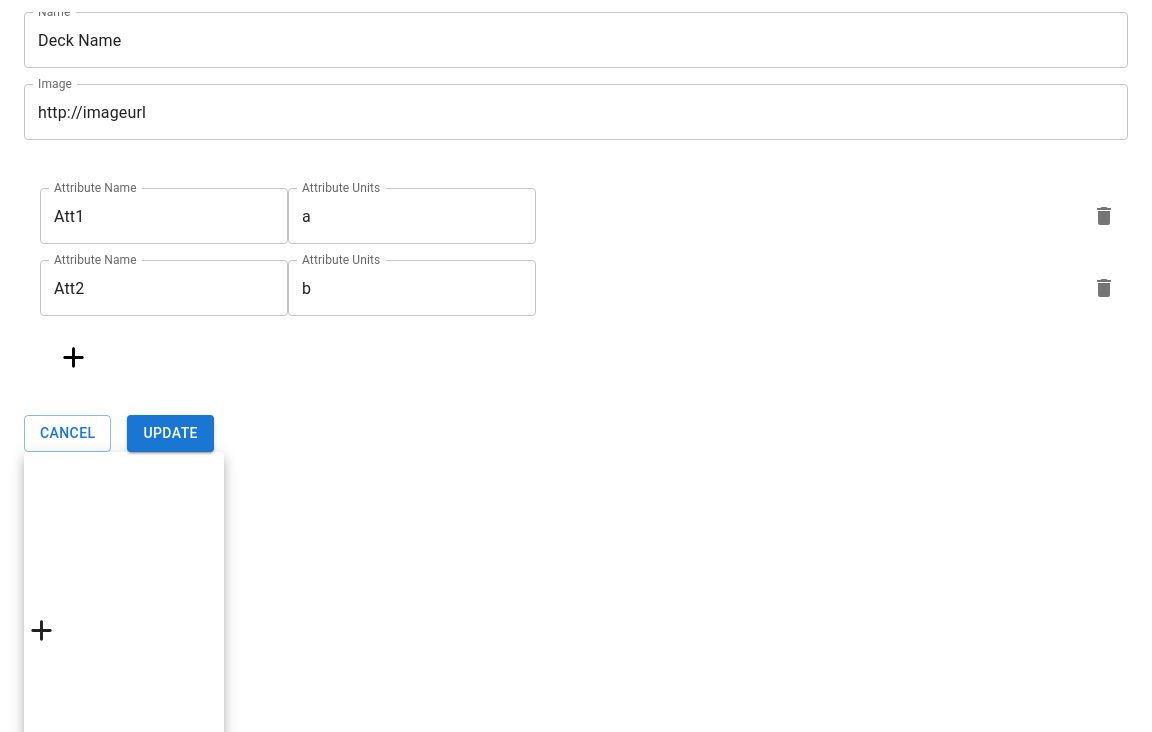
Deck Edit › attributes › should update attribute name
Type " edited" into the 1st field labelled "Attribute Name".
click(164, 216); type(" edited")  # box [40, 188, 288, 244]
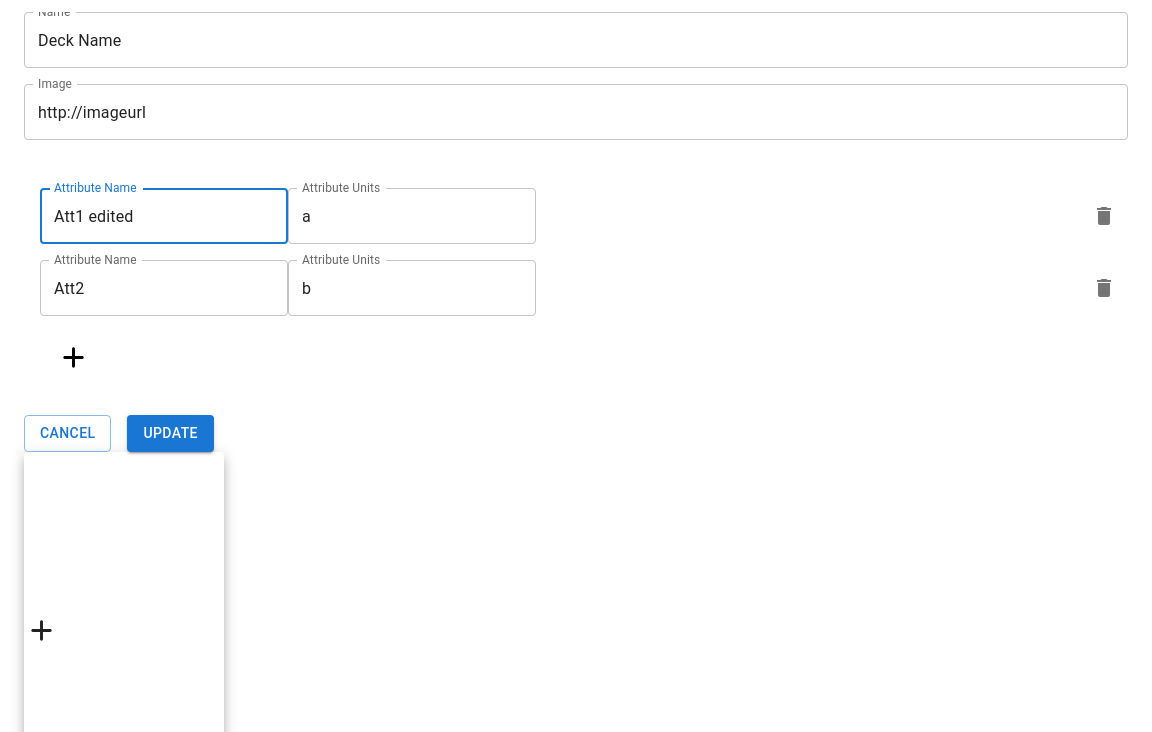
Result: the 1st field labelled "Attribute Name" holds "Att1 edited" at [40, 188, 288, 244]
